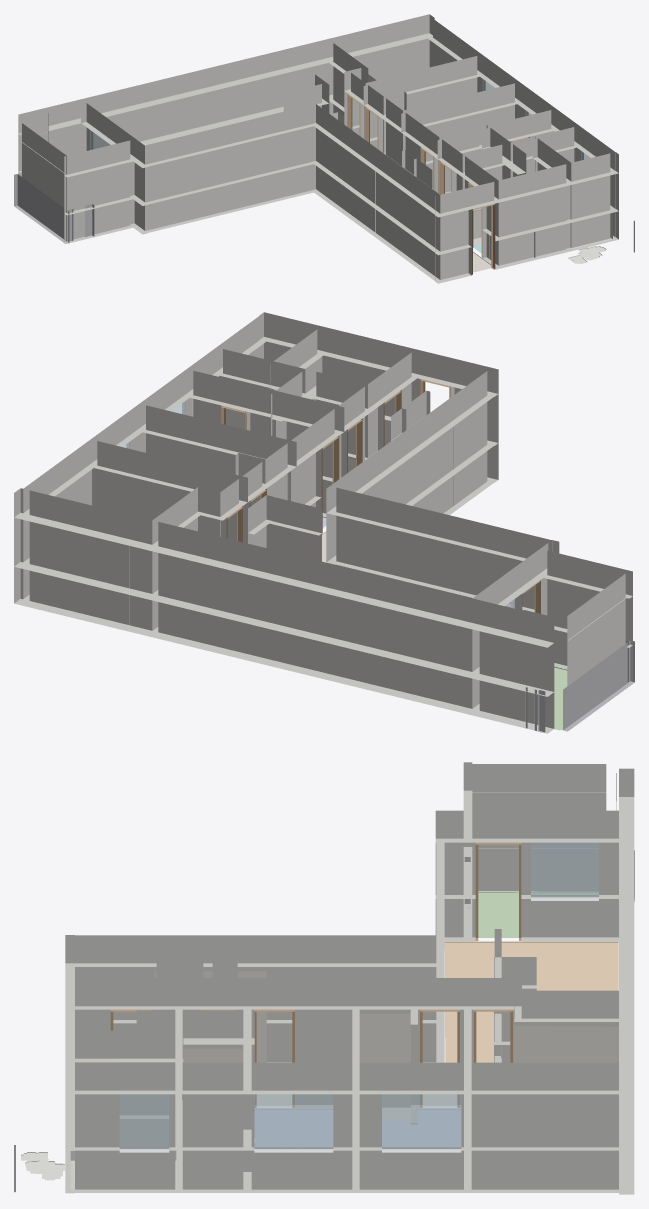
3 views of the same model, one above another, from view 1: azimuth 30°, elevation 25°; view 2: azimuth 150°, elevation 25°; view 3: azimuth 270°, elevation 25° (orthographic). The views are drawn at different scales.
Parts seen in each view (by area): view 1: walls, railings, door_0, floor_11_Undefined; view 2: walls, railings, floor_10_Outdoor; view 3: walls, floor_0_Living_Room, window_4, window_2, furniture_0_closet, window_1, furniture_1_closet, floor_5_Bed_Room, window_12, floor_4_Bed_Room, floor_10_Outdoor, furniture_12_sauna_bench (+5 smaller).
Part boxes in pixels (left/top/right/bottom): walls: left=18, top=14, right=618, bottom=283; railings: left=14, top=174, right=634, bottom=252; door_0: left=472, top=203, right=495, bottom=274; floor_11_Undefined: left=568, top=246, right=606, bottom=263; walls: left=14, top=312, right=632, bottom=733; railings: left=525, top=640, right=634, bottom=732; floor_10_Outdoor: left=554, top=666, right=567, bottom=730; walls: left=65, top=762, right=634, bottom=1194; floor_0_Living_Room: left=444, top=941, right=618, bottom=1062; window_4: left=382, top=1094, right=461, bottom=1149; window_2: left=254, top=1094, right=333, bottom=1149; furniture_0_closet: left=513, top=1026, right=618, bottom=1062; window_1: left=531, top=842, right=598, bottom=897; furniture_1_closet: left=359, top=1013, right=410, bottom=1119; floor_5_Bed_Room: left=254, top=1109, right=332, bottom=1146; window_12: left=119, top=1094, right=169, bottom=1149; floor_4_Bed_Room: left=382, top=1109, right=460, bottom=1146; floor_10_Outdoor: left=478, top=891, right=598, bottom=937; furniture_12_sauna_bench: left=70, top=1119, right=176, bottom=1190.
Size of the model in its own units: 13.97 by 2.72 by 11.97.
